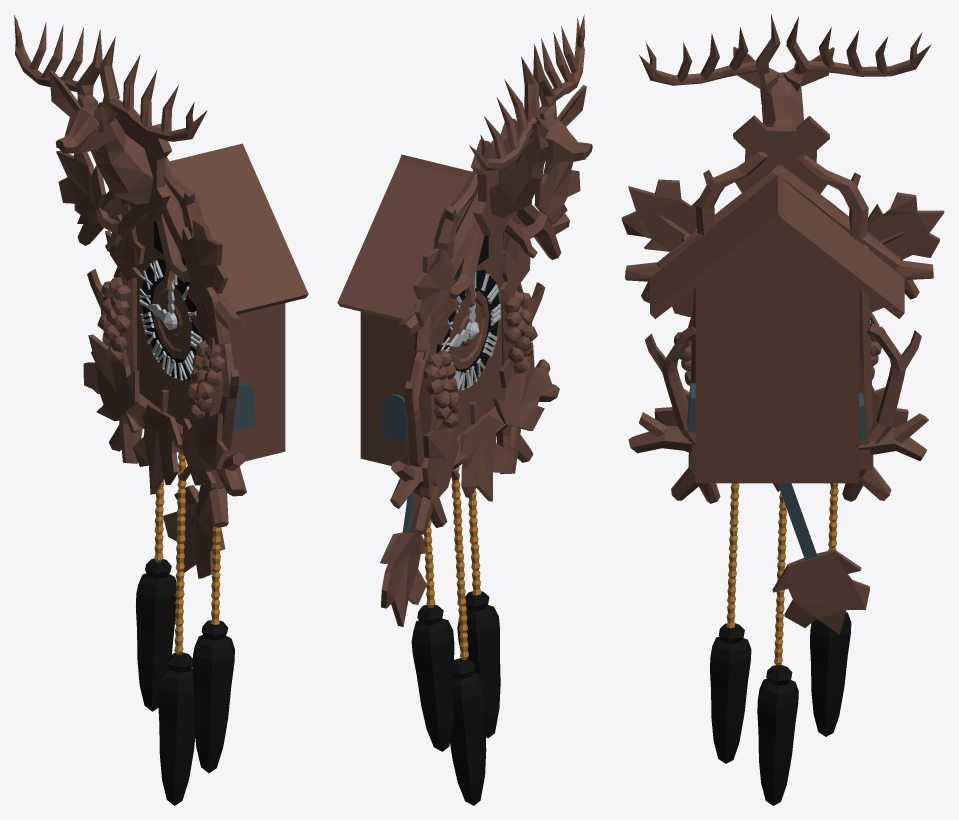
3 views of the same model, side by side, from view 1: azimuth 30°, elevation 25°; view 2: azimuth 150°, elevation 25°; view 3: azimuth 270°, elevation 25° (orthographic). The views are drawn at different scales.
Visible parts, largest first — view 1: node_MeshObject-1509994496-PolyPaper20, node_MeshObject787069952-PolyPaper15; view 2: node_MeshObject-1509994496-PolyPaper20, node_MeshObject787069952-PolyPaper15; view 3: node_MeshObject-1509994496-PolyPaper20, node_MeshObject787069952-PolyPaper15.
Boxes of the visible parts, box(x1,y1,x2,y2) form: node_MeshObject-1509994496-PolyPaper20: box(14, 15, 246, 805); node_MeshObject787069952-PolyPaper15: box(87, 143, 308, 494); node_MeshObject-1509994496-PolyPaper20: box(380, 14, 592, 805); node_MeshObject787069952-PolyPaper15: box(337, 154, 524, 501); node_MeshObject-1509994496-PolyPaper20: box(621, 14, 944, 805); node_MeshObject787069952-PolyPaper15: box(650, 174, 921, 491).
Bounding box in the file's own units: 0.3617 × 1.45 × 0.5543.
